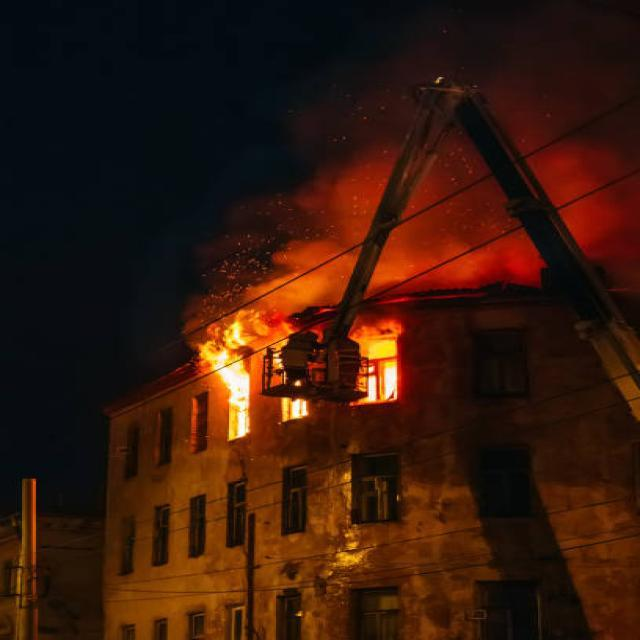Fire: (191, 302, 271, 427), (361, 323, 404, 402)
Smoke: (508, 9, 640, 227), (242, 130, 386, 293), (424, 152, 550, 300)
